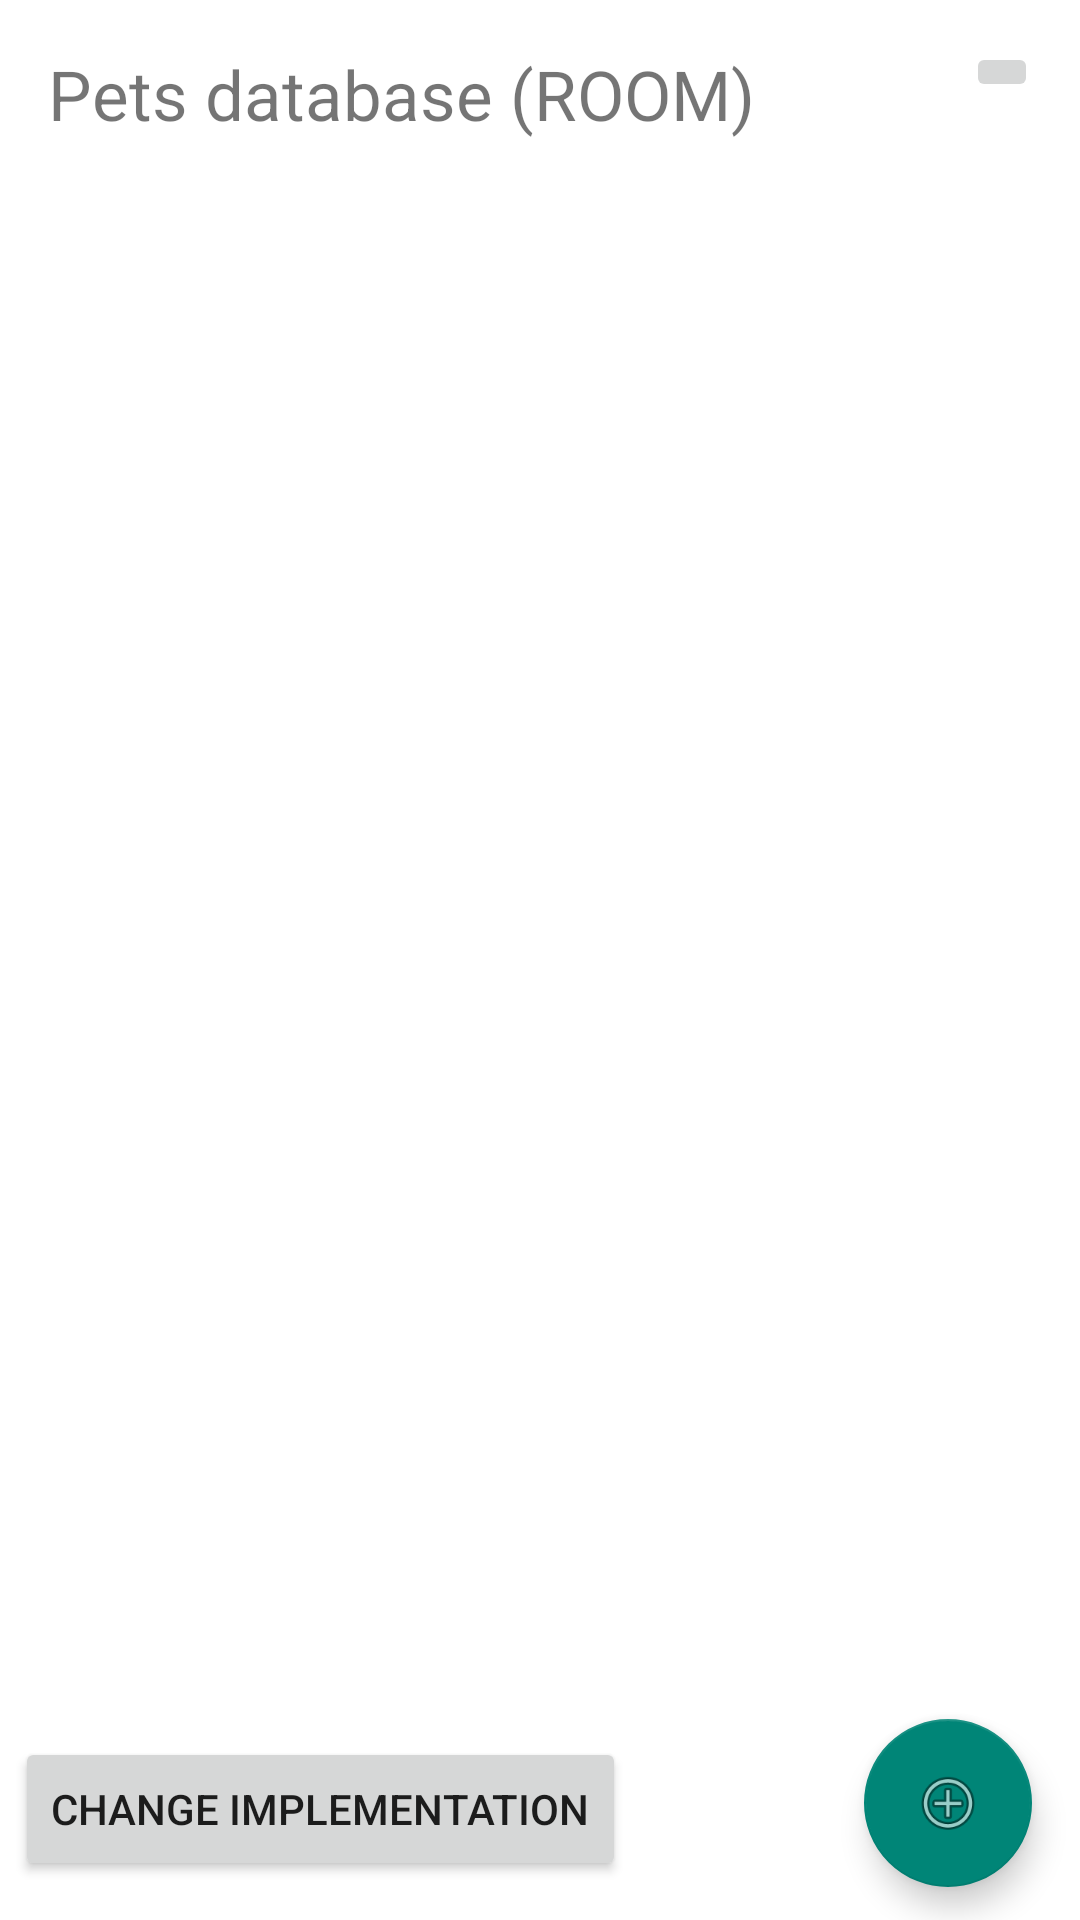

Screen size 1080×1920. Icon name, then its center in pixels as [x,y]:
Open the fragment to add new pet: [948,1803]
